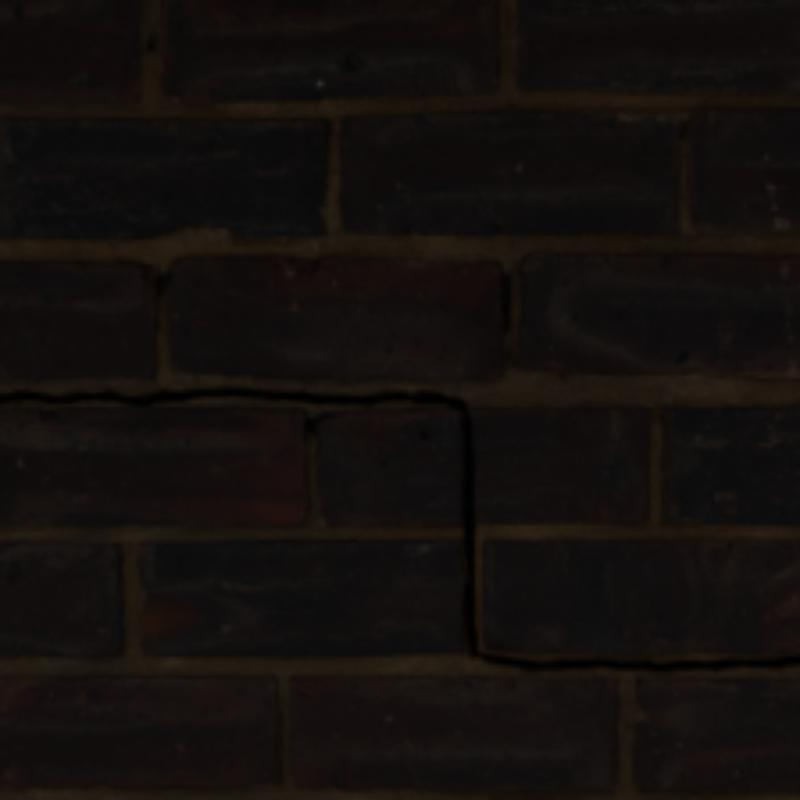pothole: (0, 386, 796, 668)
